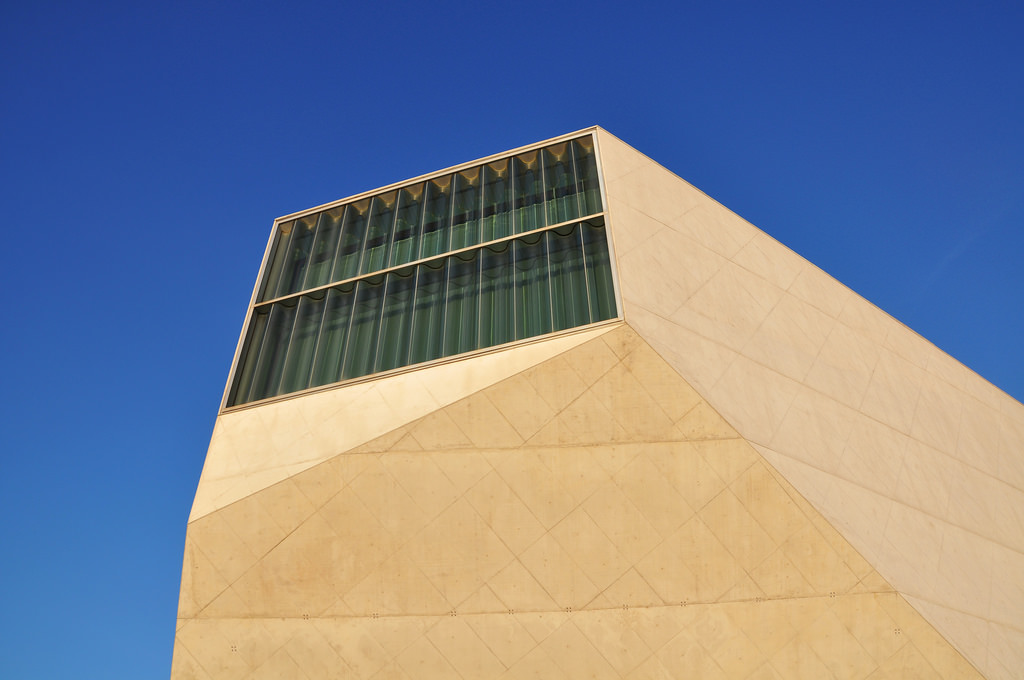musica: (168, 124, 1023, 679)
